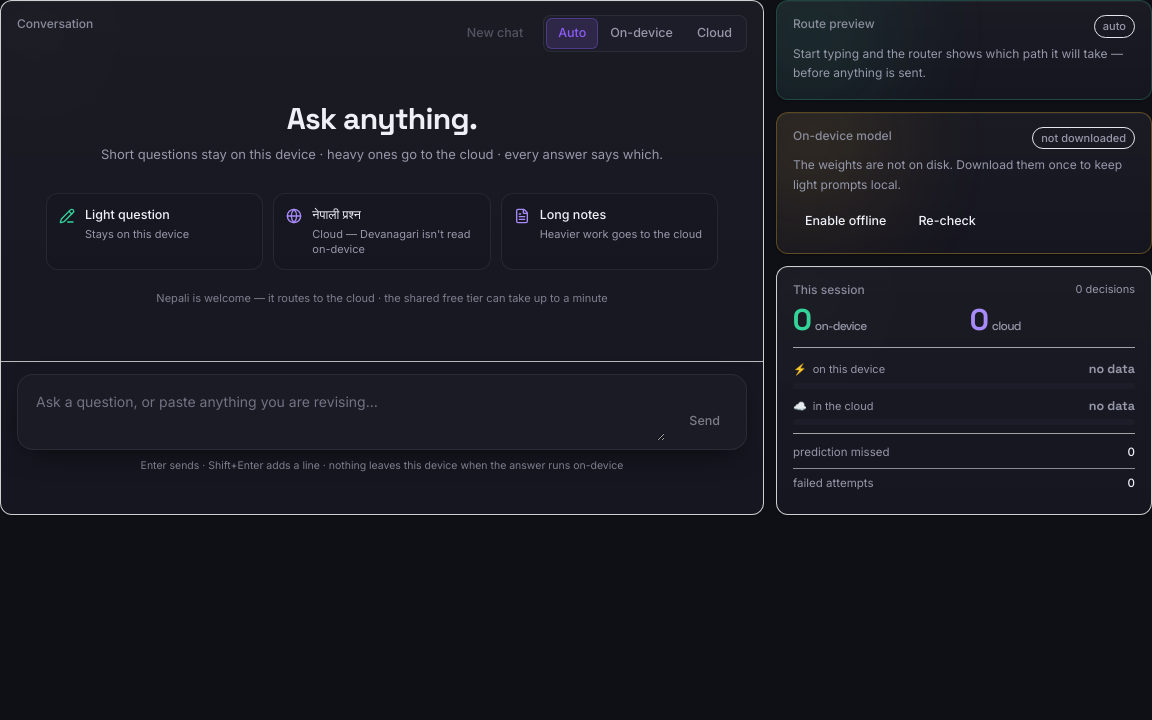
Test: AskPage › shows the answer with the source the SDK reported, and records the decision
Type "State Ohm's law" into the text box named "Your question" at (346, 412), box [26,383,665,441]
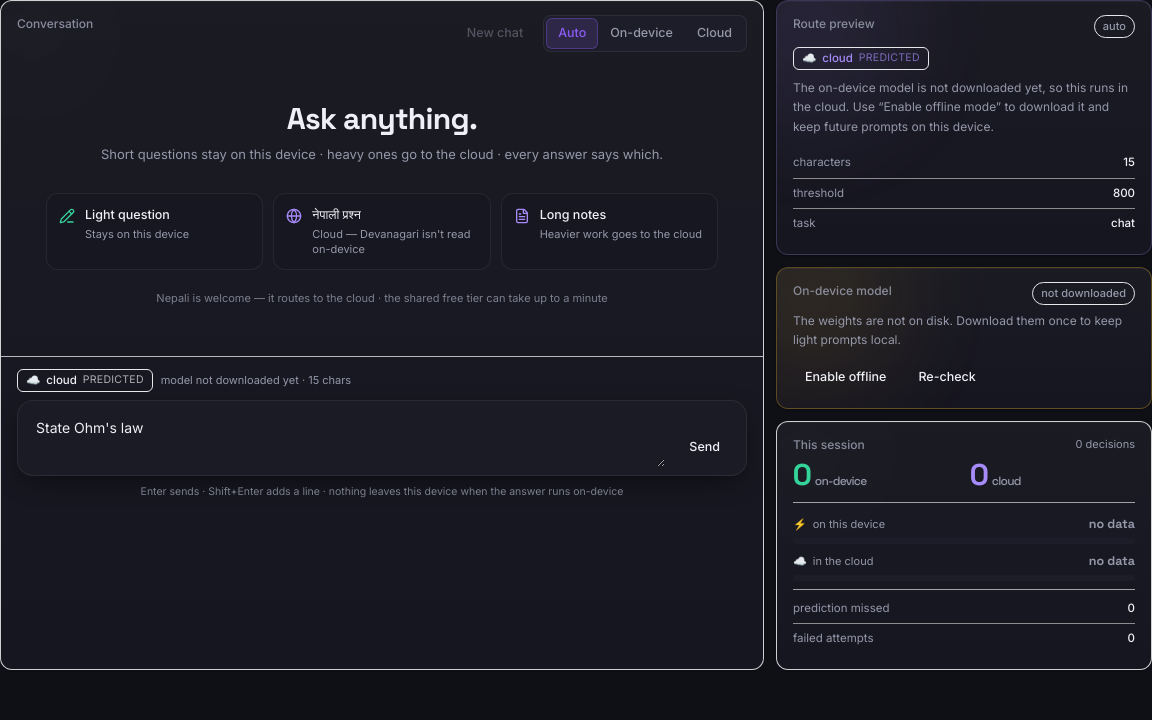
Click the button "Send" at (705, 447), box [673,429,736,465]
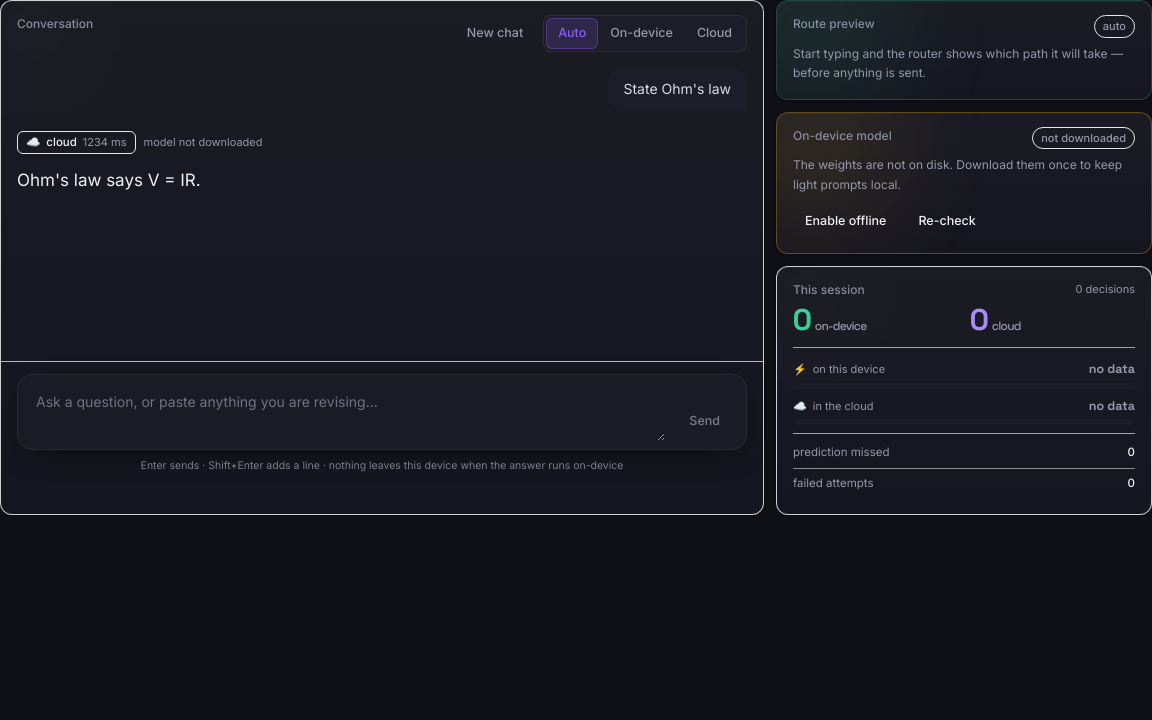
expect the element with class "badge" shows "cloud": met, box [46,134,77,148]
expect the element with class "badge" shows "1234 ms": met, box [17,130,136,154]
expect the text "Ohm's law says V = IR." is shown: met, box [17,170,201,190]
